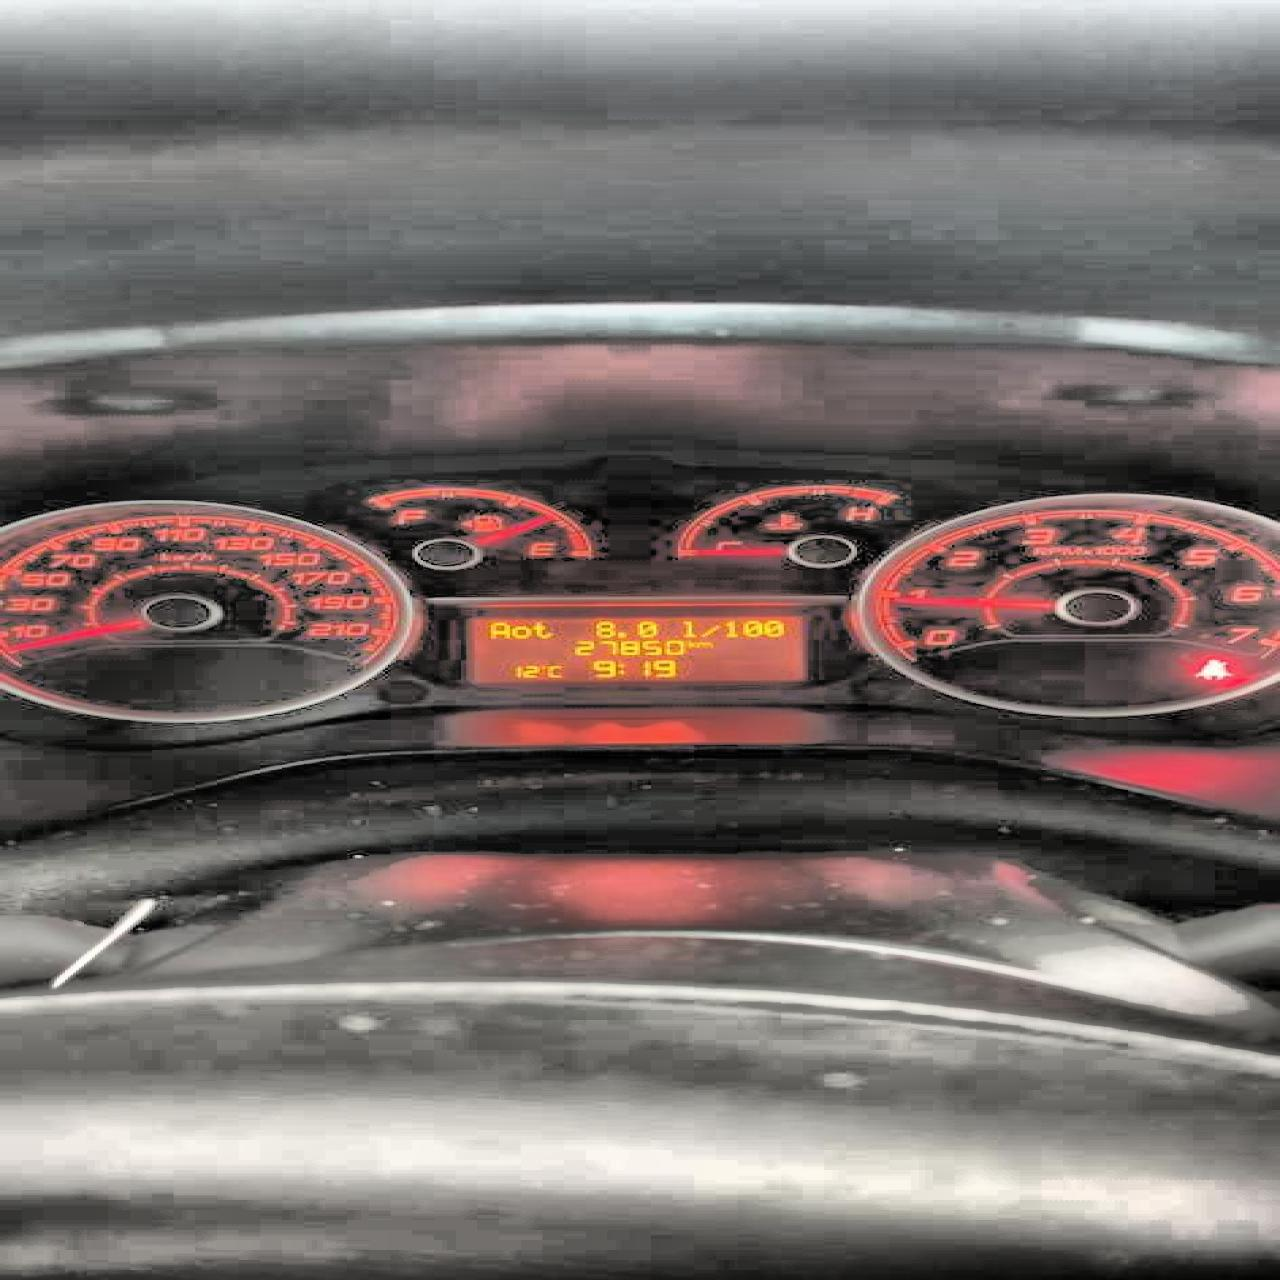-: (613, 629, 626, 636)
0: (762, 619, 784, 639), (741, 619, 762, 639), (635, 619, 656, 636), (662, 639, 683, 655)
1: (721, 619, 737, 638), (636, 659, 648, 678), (512, 663, 520, 679)
2: (572, 639, 594, 655), (520, 663, 537, 676)
5: (640, 639, 659, 655)
7: (597, 639, 615, 655)
8: (591, 619, 613, 636), (618, 639, 640, 654)
9: (591, 659, 615, 678), (651, 659, 673, 676)
X: (529, 620, 553, 639), (485, 620, 510, 638), (678, 618, 697, 639), (697, 624, 719, 636), (510, 624, 529, 638), (545, 663, 561, 678), (615, 661, 626, 674), (694, 641, 710, 647), (686, 639, 694, 646)
odometer: (467, 615, 811, 681)
